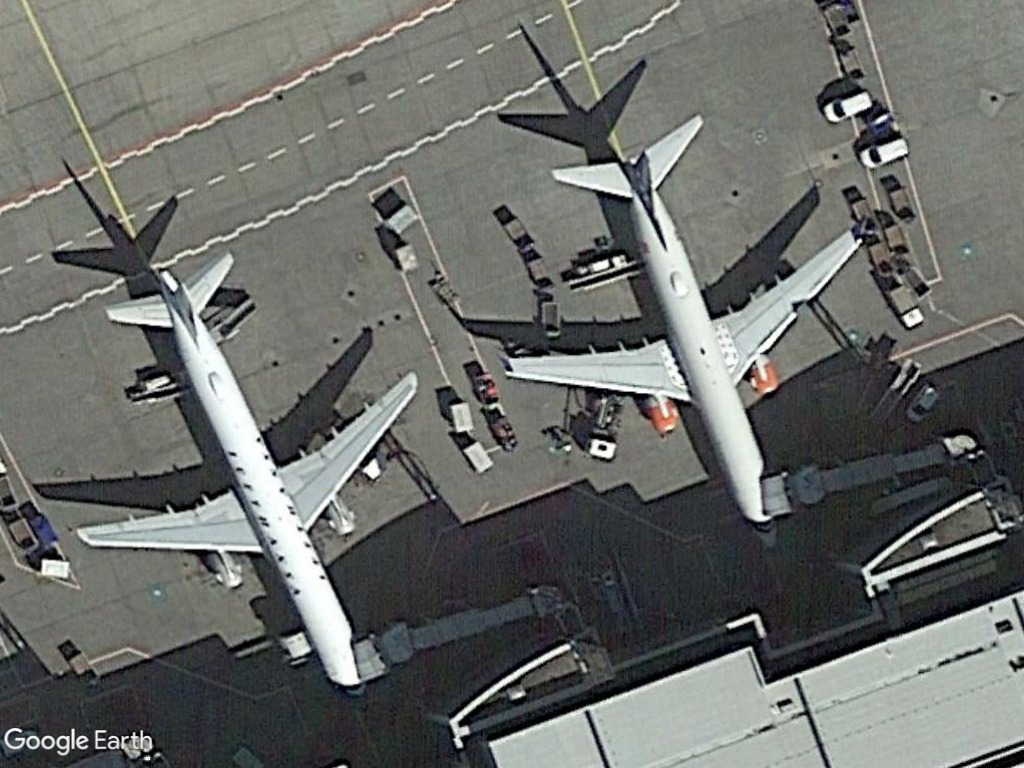airliner: (501, 108, 858, 555), (73, 248, 420, 704)
van: (820, 90, 874, 126), (857, 135, 910, 171)
